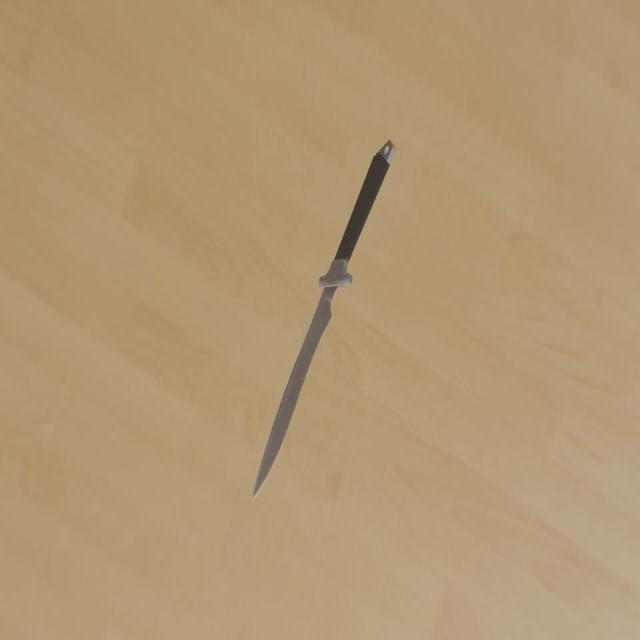knife: (334, 140, 395, 262)
